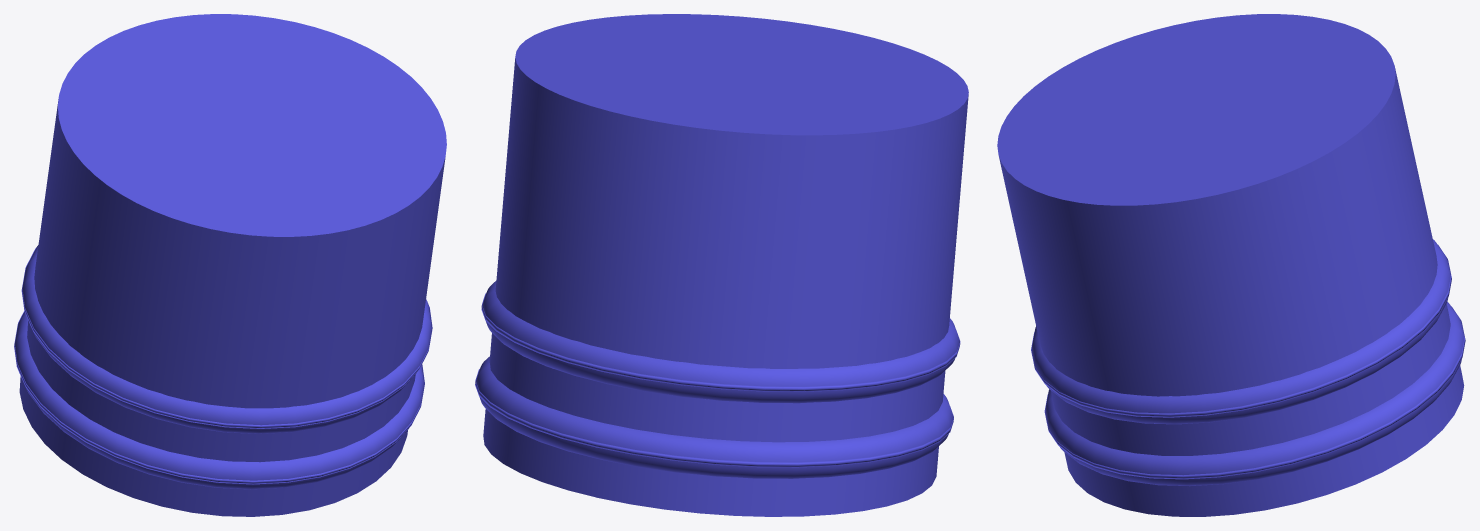
Rendered from bombilla233.obj.
3 views of the same model, side by side, from view 1: azimuth 30°, elevation 25°; view 2: azimuth 150°, elevation 25°; view 3: azimuth 270°, elevation 25° (orthographic). The views are drawn at different scales.
Visible parts, largest first — view 1: Cylinder001, Cylinder004, Cylinder002, Cylinder003, Cylinder006; view 2: Cylinder001, Cylinder003, Cylinder004, Cylinder006, Cylinder002; view 3: Cylinder001, Cylinder004, Cylinder003, Cylinder002, Cylinder006.
Boxes of the visible parts, left/top/right/bottom form: Cylinder001: left=34, top=14, right=446, bottom=408; Cylinder004: left=14, top=311, right=424, bottom=489; Cylinder002: left=21, top=245, right=432, bottom=433; Cylinder003: left=27, top=320, right=415, bottom=462; Cylinder006: left=19, top=376, right=407, bottom=516; Cylinder001: left=495, top=14, right=968, bottom=368; Cylinder003: left=489, top=333, right=945, bottom=442; Cylinder004: left=475, top=356, right=953, bottom=478; Cylinder006: left=483, top=409, right=938, bottom=516; Cylinder002: left=481, top=281, right=960, bottom=403; Cylinder001: left=997, top=14, right=1437, bottom=396; Cylinder004: left=1044, top=302, right=1465, bottom=486; Cylinder003: left=1051, top=304, right=1450, bottom=455; Cylinder002: left=1031, top=239, right=1451, bottom=424; Cylinder006: left=1064, top=365, right=1464, bottom=516.
Bounding box in the file's own units: 72.45 × 71.75 × 78.96.
